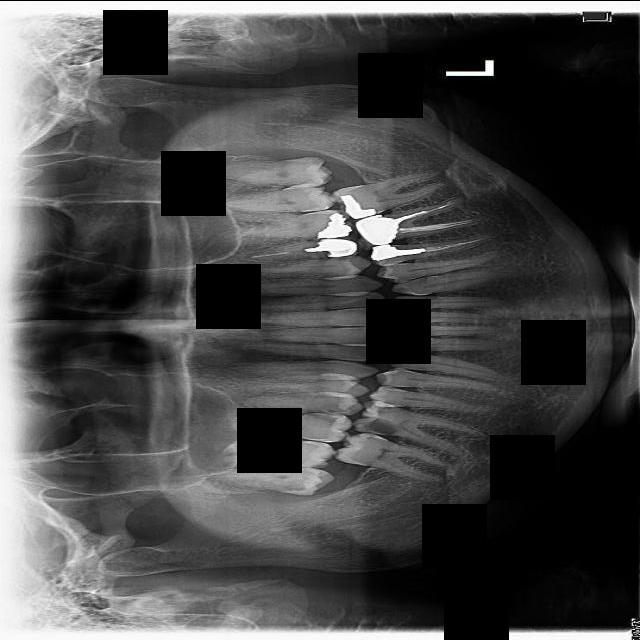71: (370, 210, 429, 241)
74: (423, 236, 489, 252), (402, 221, 466, 234), (420, 200, 454, 214), (248, 250, 290, 257)
NucleOSS Implant: (316, 209, 355, 250), (334, 191, 376, 225), (370, 242, 426, 261), (304, 239, 348, 252)
Sterngold Implant: (303, 409, 343, 429), (360, 414, 397, 433), (276, 477, 311, 496), (315, 401, 343, 412), (330, 255, 352, 262)
Zimmer Implant: (350, 209, 396, 251), (320, 236, 365, 258)
